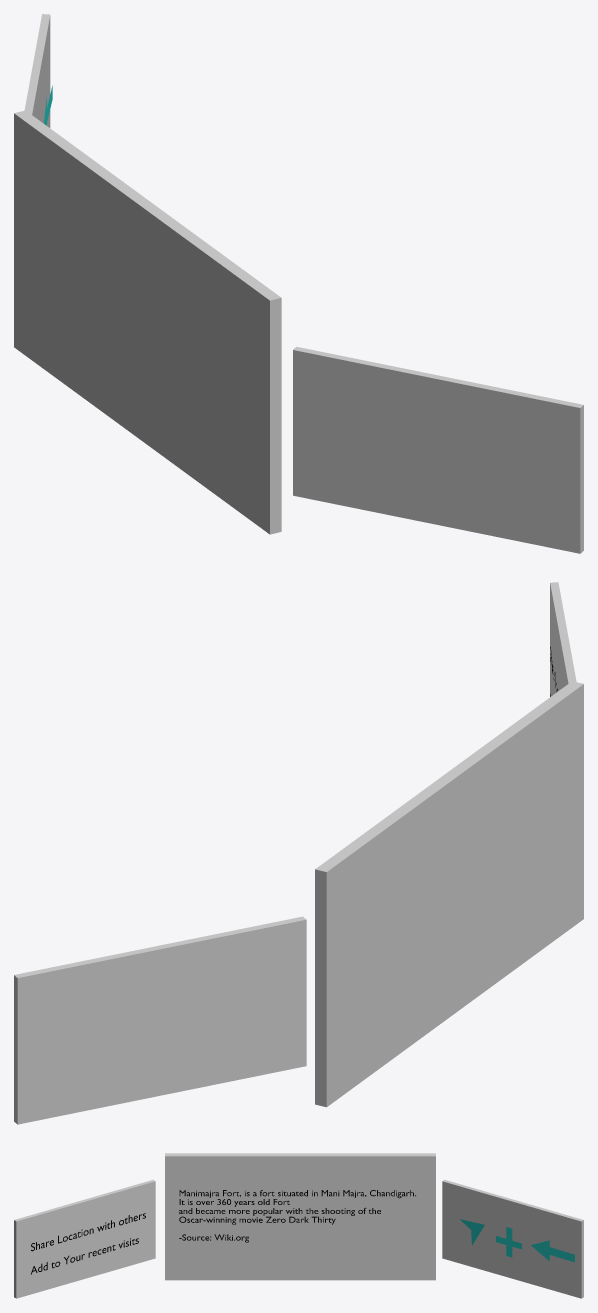
Rendered from qilla.fbx.
3 views of the same model, one above another, from view 1: azimuth 30°, elevation 25°; view 2: azimuth 150°, elevation 25°; view 3: azimuth 270°, elevation 25° (orthographic). The views are drawn at different scales.
Parts seen in each view (by area): view 1: Cube.002; view 2: Cube.002; view 3: Cube.002, Text, Text.001, Plane.002, Plane.001, Plane.
Boxes of the visible parts, <box> form: Cube.002: <box>14,14,583,553</box>; Cube.002: <box>14,582,583,1124</box>; Cube.002: <box>14,1153,583,1298</box>; Text: <box>179,1190,415,1242</box>; Text.001: <box>31,1213,145,1274</box>; Plane.002: <box>531,1240,574,1262</box>; Plane.001: <box>496,1227,521,1257</box>; Plane: <box>460,1219,484,1245</box>.
Size of the model in its own units: 110 by 141 by 588.
